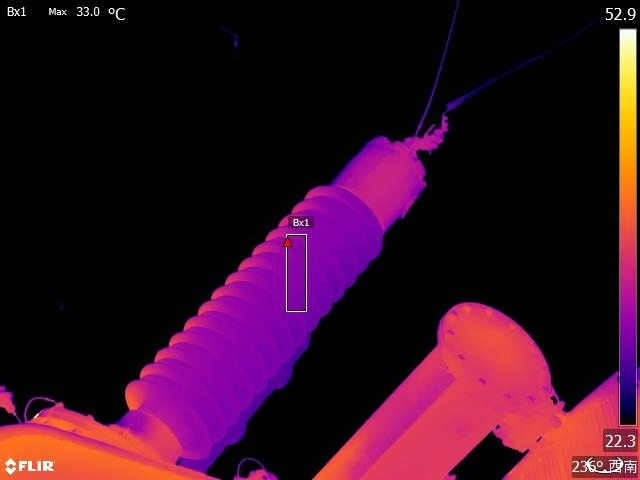tube: (120, 122, 453, 447)
